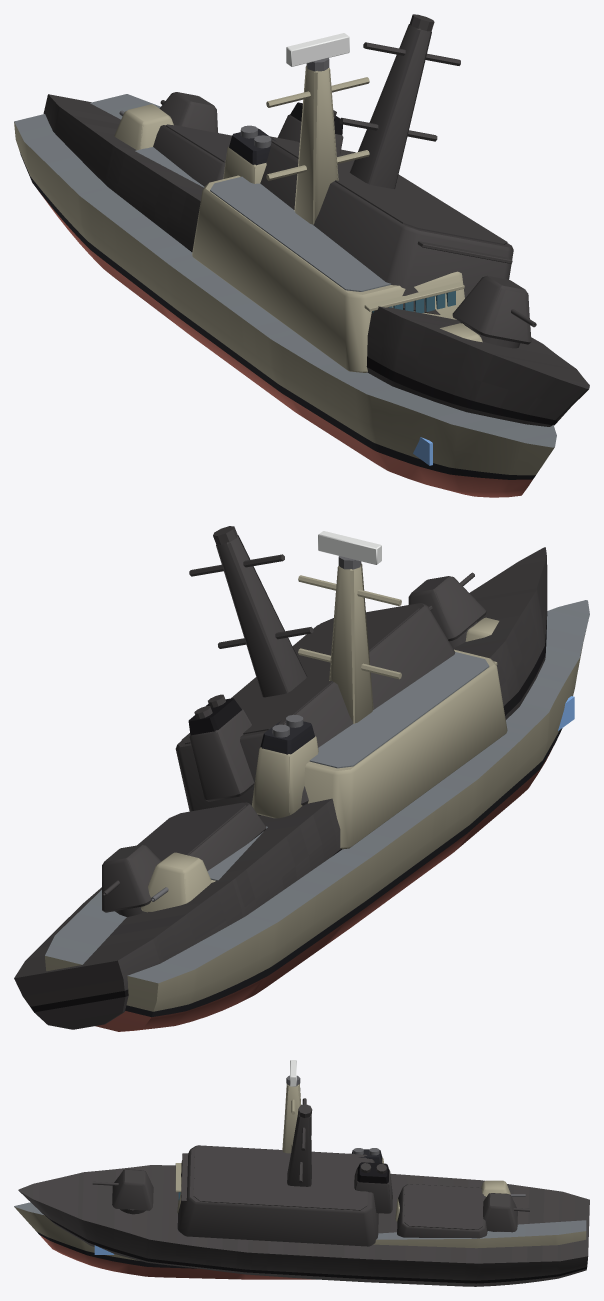
Rendered from gunboat__gunboat.glb.
3 renders of one model, top to bottom at view 1: azimuth 30°, elevation 25°; view 2: azimuth 150°, elevation 25°; view 3: azimuth 270°, elevation 25°, orthographic. The views are drawn at different scales.
Visible parts, largest first — view 1: Hull_Mesh, Wreck, Radar_Mesh; view 2: Hull_Mesh, Wreck, Radar_Mesh; view 3: Wreck, Hull_Mesh.
Part boxes in pixels (x1,y1,x2,y2): Hull_Mesh: [14, 65, 556, 497]; Wreck: [43, 14, 589, 426]; Radar_Mesh: [286, 33, 349, 71]; Hull_Mesh: [45, 563, 589, 1031]; Wreck: [14, 526, 547, 1029]; Radar_Mesh: [318, 531, 381, 569]; Wreck: [18, 1098, 589, 1286]; Hull_Mesh: [14, 1084, 586, 1279].
Size of what is drawn, in the model's own units: 8.88 by 12.12 by 31.47.
